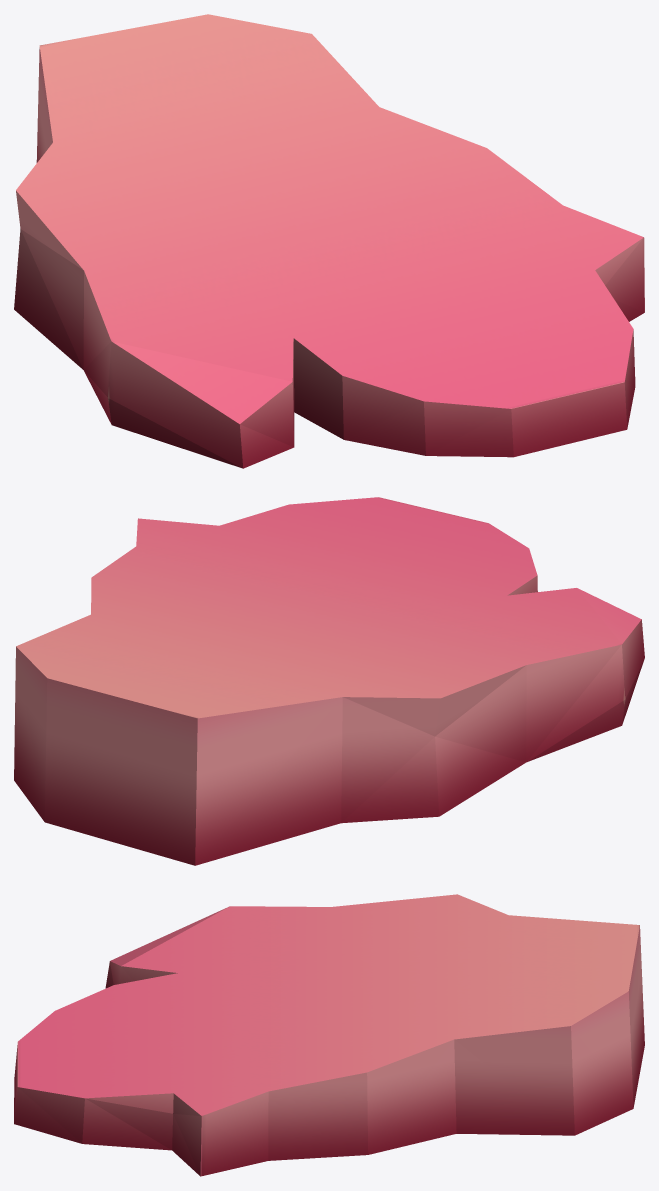
The model's file is Sunset_Ground_004.FBX.
3 renders of one model, top to bottom at view 1: azimuth 30°, elevation 25°; view 2: azimuth 150°, elevation 25°; view 3: azimuth 270°, elevation 25°, orthographic. The views are drawn at different scales.
Visible parts, largest first — view 1: Sunset_Ground_004; view 2: Sunset_Ground_004; view 3: Sunset_Ground_004.
Part boxes in pixels (box(x1,y1,x2,y2)): Sunset_Ground_004: box(14, 14, 644, 468); Sunset_Ground_004: box(14, 497, 644, 865); Sunset_Ground_004: box(14, 894, 644, 1176).
Size of the model in its own units: 1377 by 378 by 1797.
Materials: 1 (1 with a texture image).
